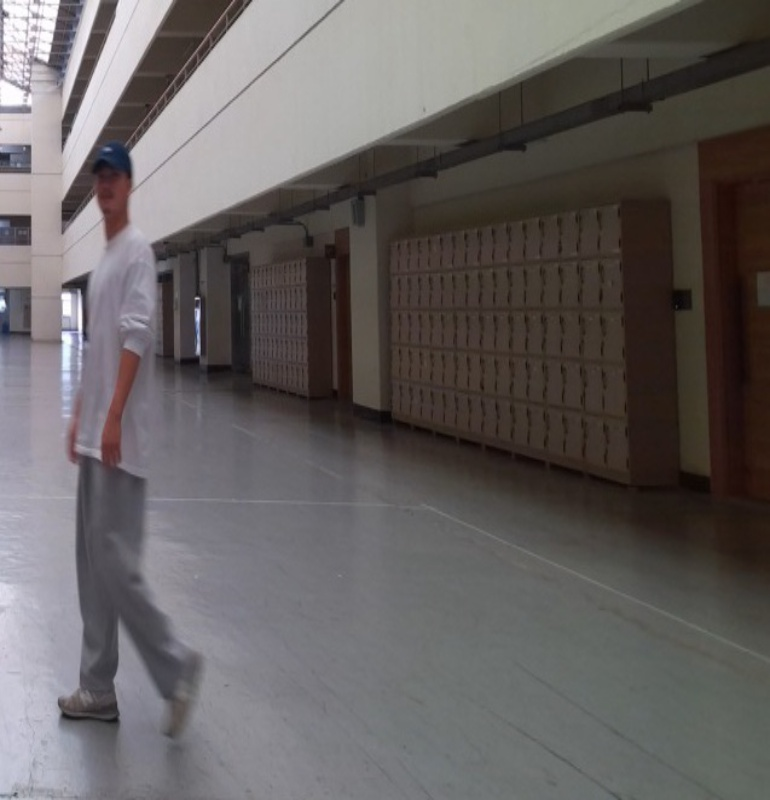person: (58, 140, 209, 742)
